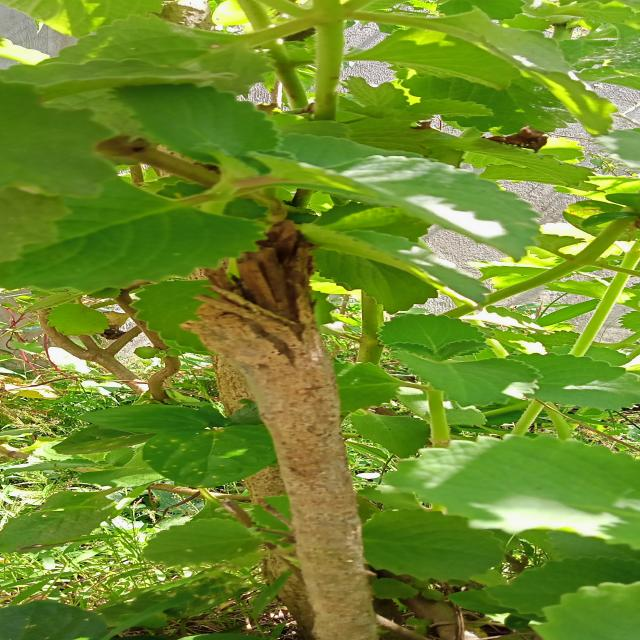Oregano: (0, 26, 541, 291), (377, 420, 640, 554), (377, 308, 630, 409)
